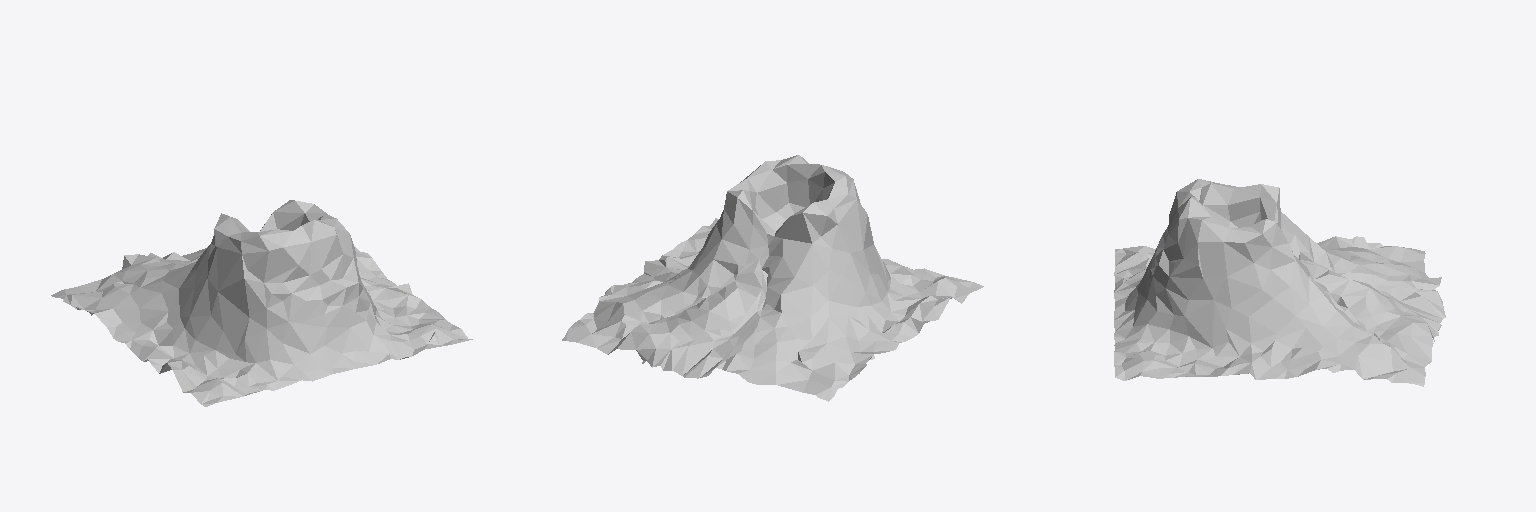
The model's file is volcano.obj.
The picture shows the model from 3 angles: view 1: azimuth 30°, elevation 25°; view 2: azimuth 150°, elevation 25°; view 3: azimuth 270°, elevation 25°; orthographic projection.
Parts seen in each view (by area): view 1: Plane; view 2: Plane; view 3: Plane.
Part boxes in pixels (left/top/right/bottom): Plane: left=51, top=200, right=472, bottom=406; Plane: left=562, top=155, right=983, bottom=401; Plane: left=1114, top=179, right=1445, bottom=386.
Size of the model in its own units: 214 by 96.96 by 223.